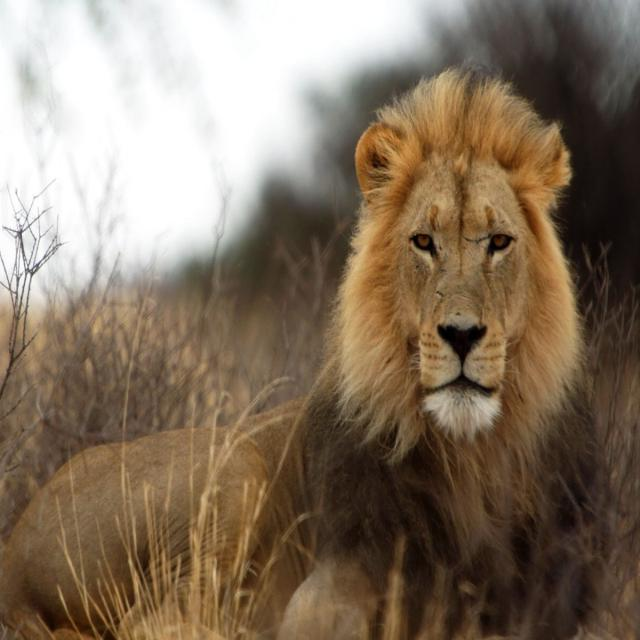lions: (0, 69, 640, 640)
